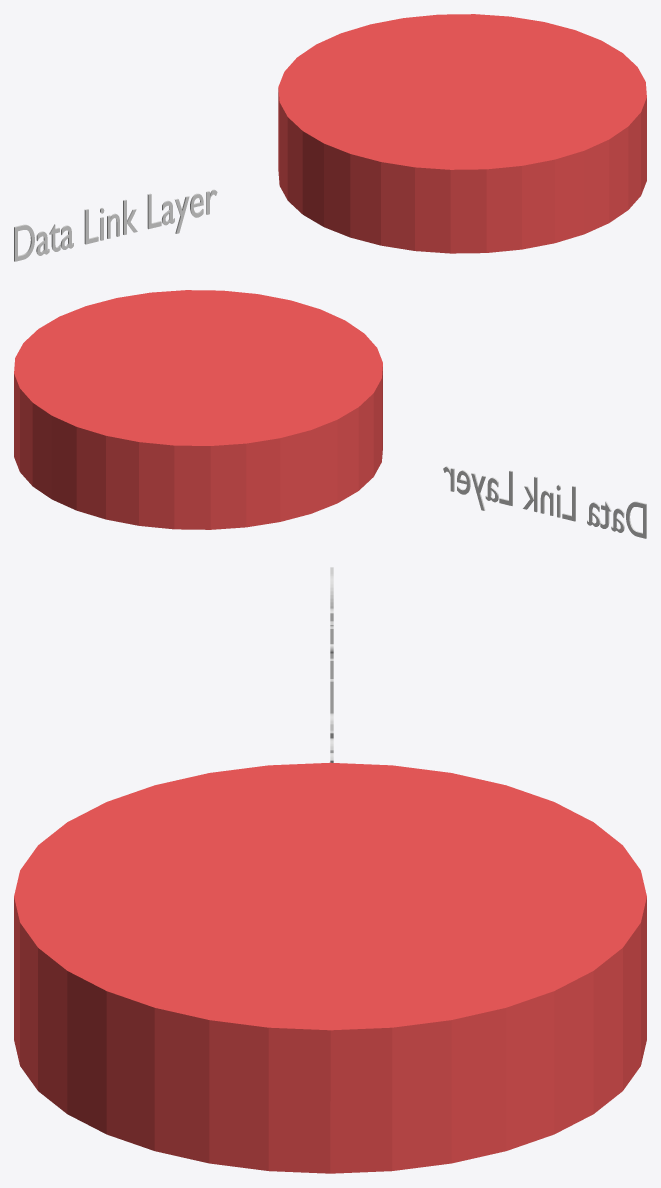
3 renders of one model, top to bottom at view 1: azimuth 30°, elevation 25°; view 2: azimuth 150°, elevation 25°; view 3: azimuth 270°, elevation 25°, orthographic. The views are drawn at different scales.
Parts seen in each view (by area): view 1: Silinder.001, Teks.001; view 2: Silinder.001, Teks.001; view 3: Silinder.001.
Part boxes in pixels (x1,y1,x2,y2): Silinder.001: (278, 14, 646, 253); Teks.001: (14, 189, 217, 261); Silinder.001: (14, 290, 382, 529); Teks.001: (443, 466, 646, 538); Silinder.001: (14, 762, 646, 1173).
Bounding box in the file's own units: 380 × 50 × 200.
